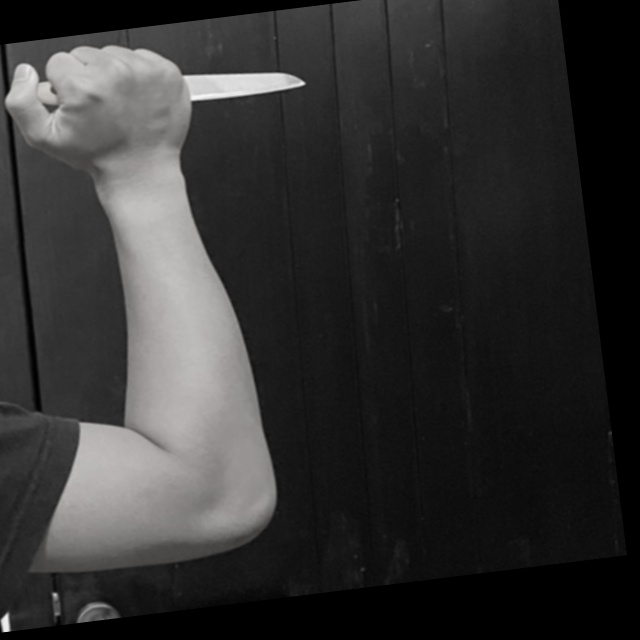Sharp-Object: (14, 47, 309, 125)
